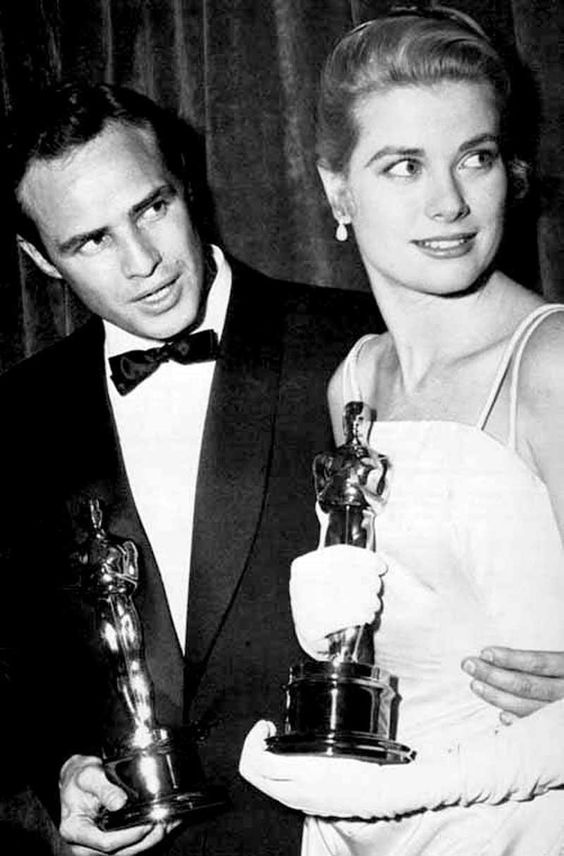hand: (237, 723, 428, 805)
